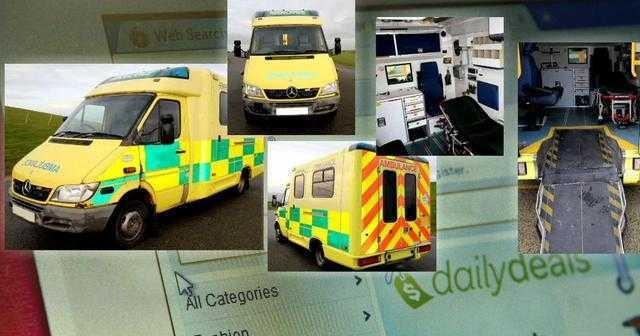car: (7, 65, 266, 247), (270, 140, 433, 270), (239, 8, 341, 124)
